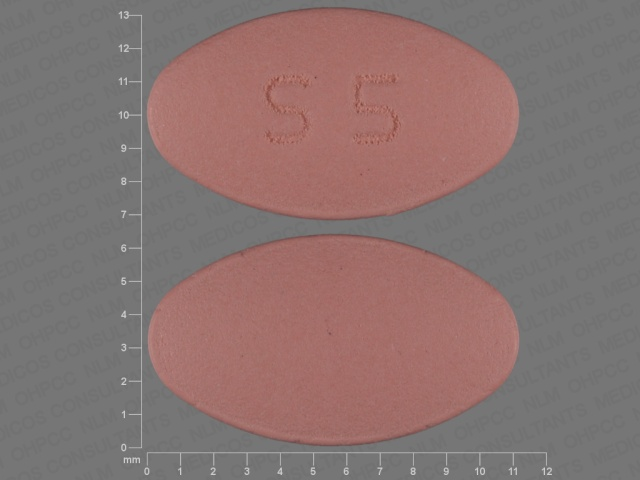5: (347, 69, 403, 151)
S: (262, 69, 311, 148)
